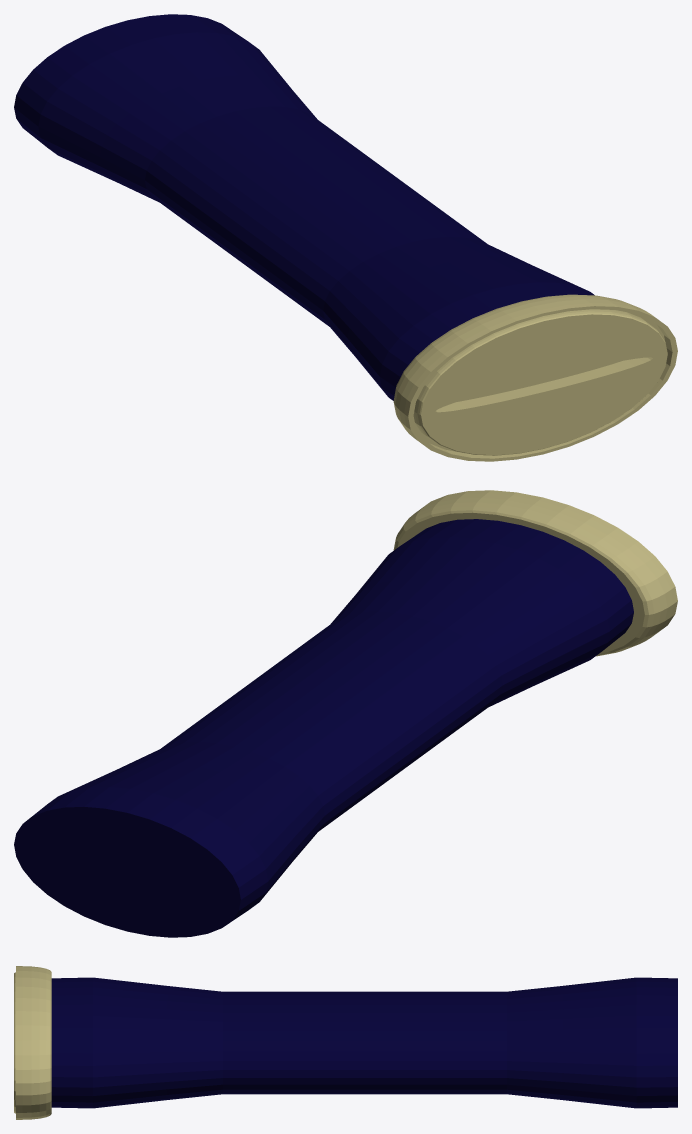
The model's file is sowrd.glb.
3 renders of one model, top to bottom at view 1: azimuth 30°, elevation 25°; view 2: azimuth 150°, elevation 25°; view 3: azimuth 270°, elevation 25°, orthographic. The views are drawn at different scales.
Parts seen in each view (by area): view 1: Cylinder; view 2: Cylinder; view 3: Cylinder.
Boxes of the visible parts, x1,y1,x2,y2 form: Cylinder: (14,14,677,461); Cylinder: (14,490,677,937); Cylinder: (14,966,677,1119).
Size of the model in its own units: 2.38 by 1.19 by 6.36.
